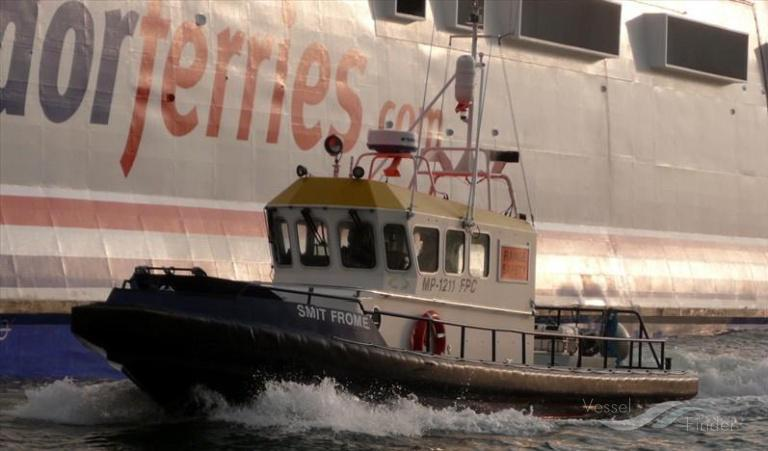OCR: (292, 300, 374, 332), (420, 268, 480, 302)
